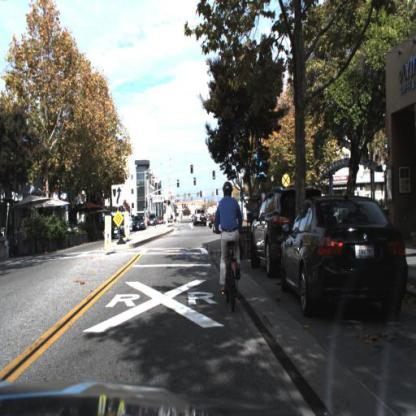biker: (217, 177, 242, 315)
car: (279, 195, 412, 324), (249, 189, 287, 284), (196, 207, 207, 227)
trafficLight-Green: (213, 168, 216, 182)
trafficLight-Red: (189, 164, 195, 178)
